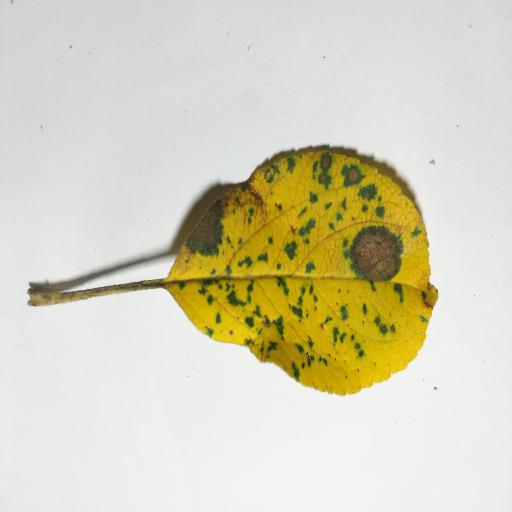Brown_Spot: (180, 191, 235, 257), (350, 233, 403, 280), (232, 182, 274, 217), (316, 155, 329, 186), (343, 166, 359, 182)
